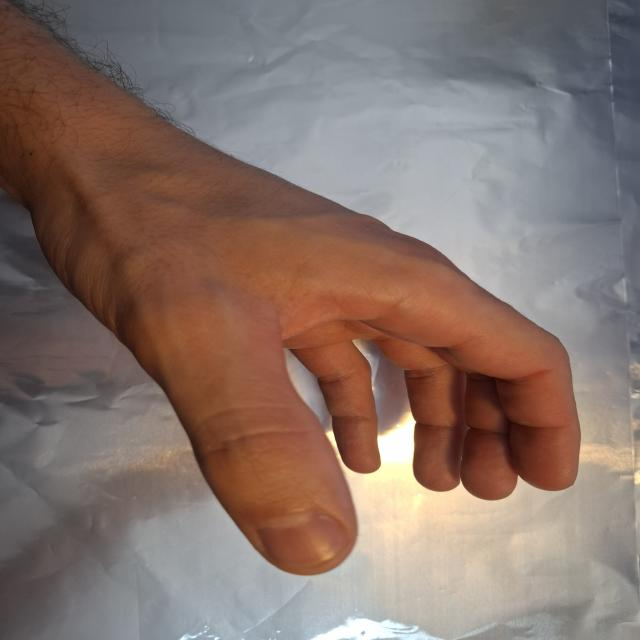glove_off: (19, 98, 583, 579)
